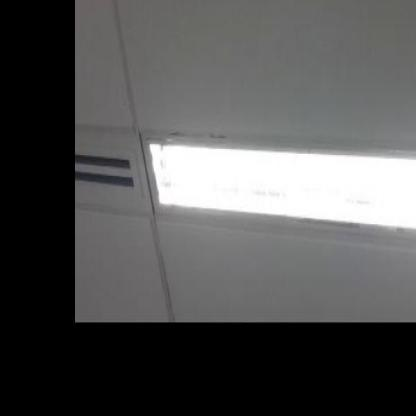light_on: (140, 91, 415, 320)
